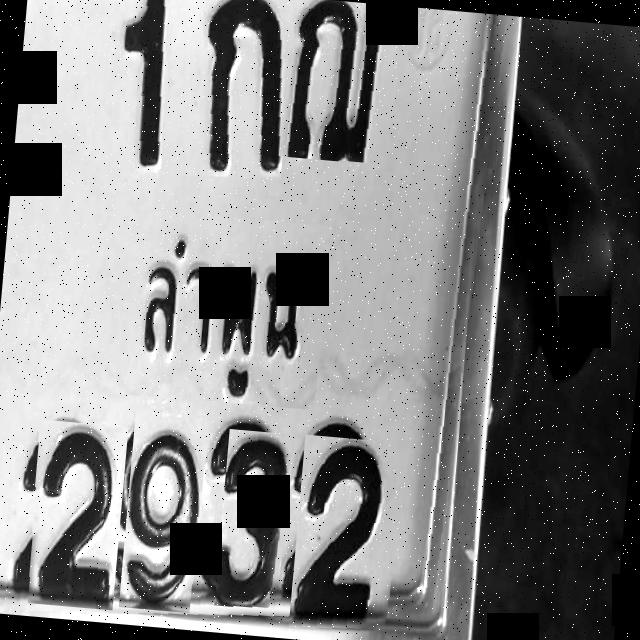letters: (288, 434, 411, 637), (171, 0, 296, 184), (278, 0, 407, 165), (23, 419, 128, 610), (118, 409, 209, 613), (84, 0, 177, 182), (214, 429, 294, 612)
license-plate: (0, 0, 499, 626)
province: (112, 208, 332, 412)
